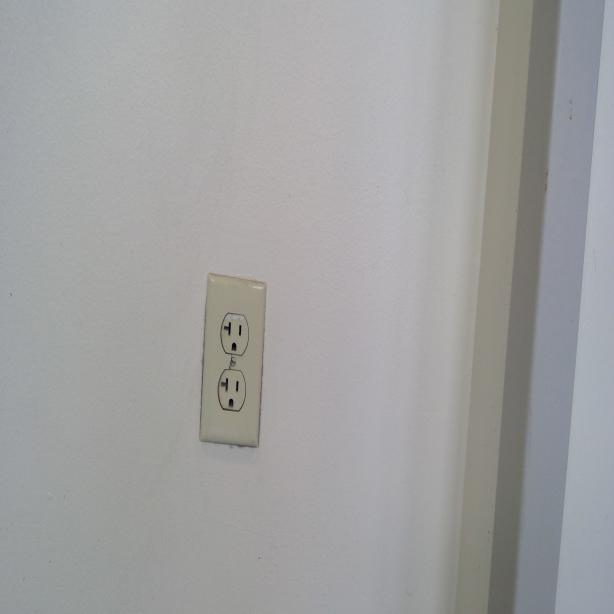typeb: (218, 369, 248, 416), (219, 313, 249, 355)
